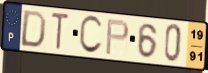0: (164, 23, 185, 65)
6: (137, 22, 160, 60)
C: (77, 14, 104, 56)
D: (19, 9, 49, 50)
P: (104, 18, 131, 57)
T: (50, 11, 71, 52)
